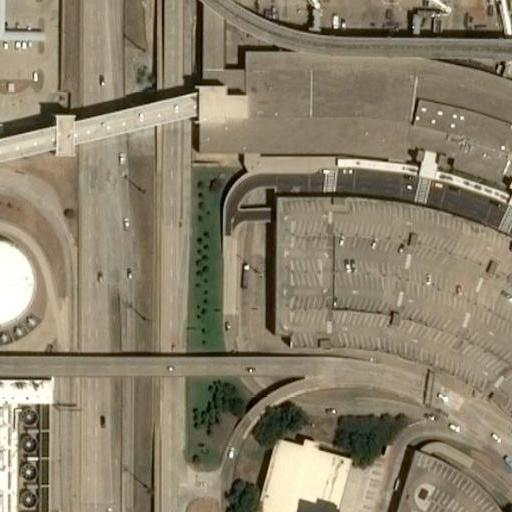Aircraft: (455, 0, 512, 2)
